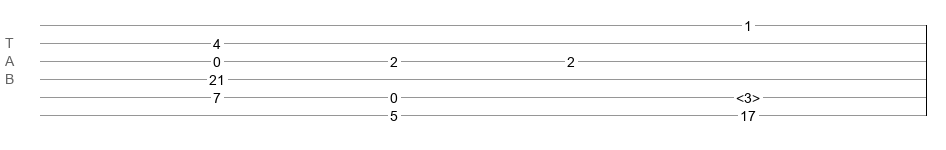0: (213, 54, 221, 64), (390, 90, 398, 100)
1: (744, 18, 752, 28)
17: (740, 108, 756, 118)
2: (390, 54, 398, 64), (567, 54, 575, 64)
21: (209, 72, 225, 82)
4: (213, 36, 221, 46)
5: (390, 108, 398, 118)
7: (213, 90, 221, 100)
harmonic: (736, 90, 760, 100)
